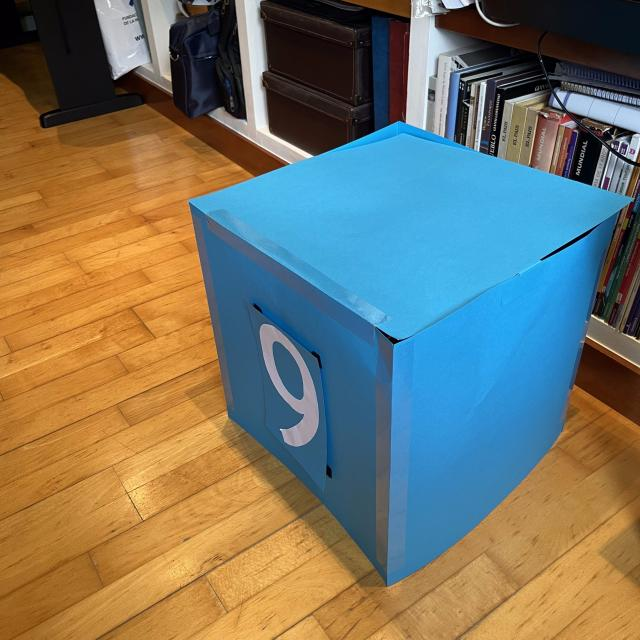box: (185, 118, 632, 586)
